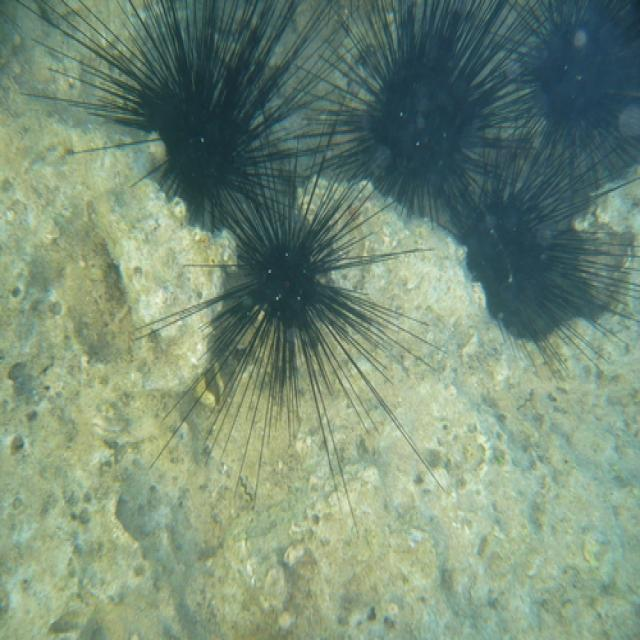Urchin: (138, 84, 443, 502), (16, 2, 332, 228), (293, 2, 545, 240), (439, 124, 637, 376), (476, 2, 638, 210)
